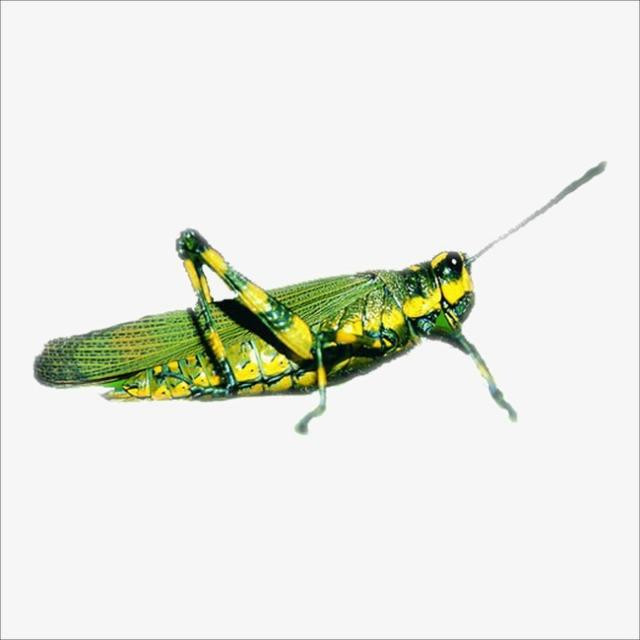ZhaMeng: (36, 153, 547, 437)
